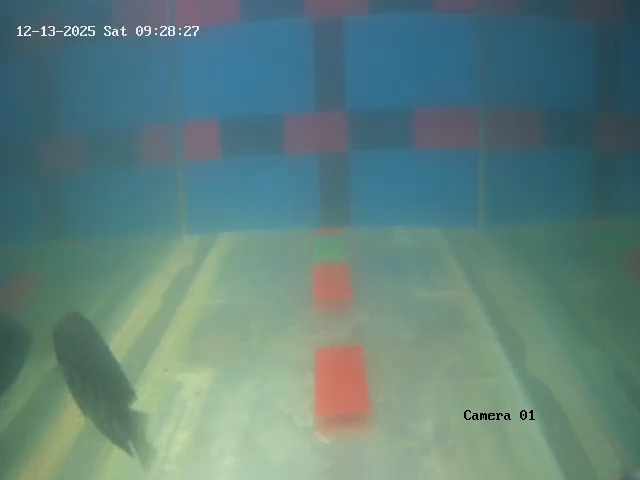fish: (25, 305, 165, 453)
